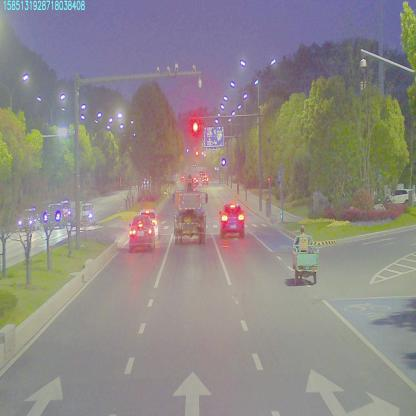traffic-light: (190, 119, 198, 130)
